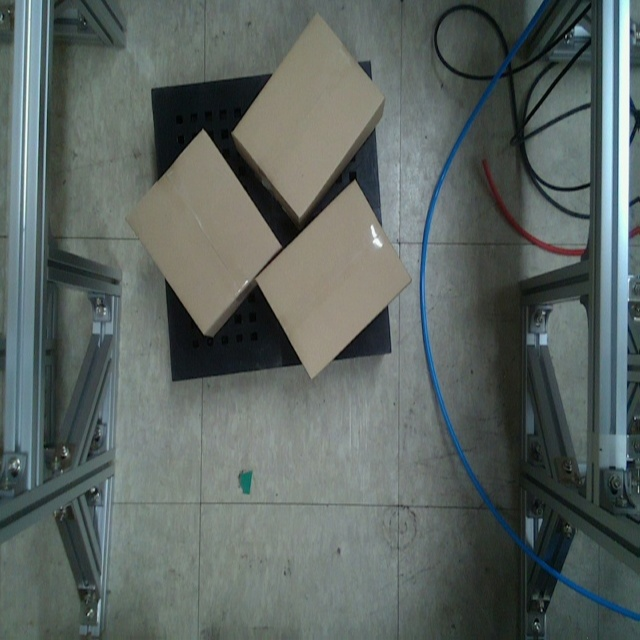box: (123, 129, 285, 340), (230, 11, 388, 222), (254, 180, 414, 382)
